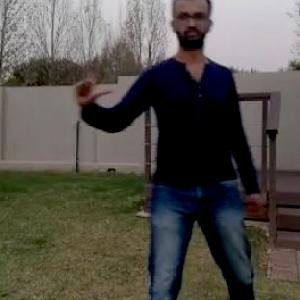land_hand: (67, 54, 114, 115)
